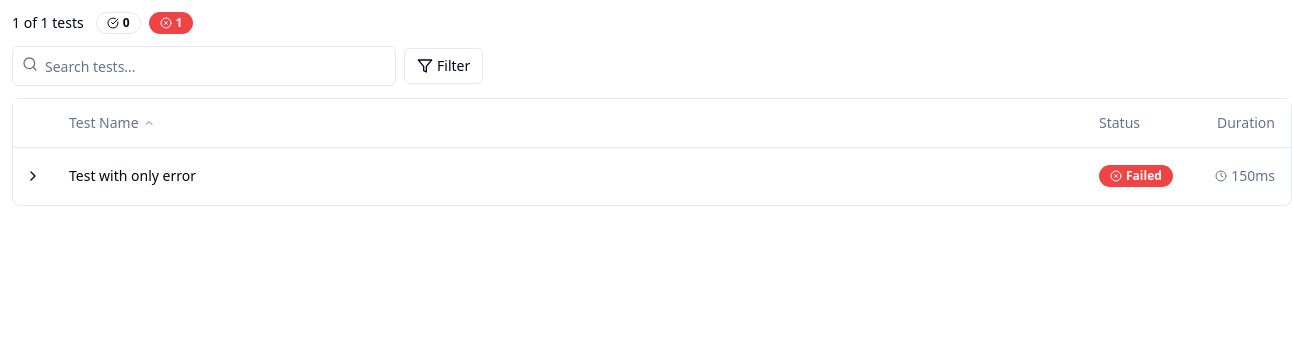
it: TestResultsTable › Expanded Row Content › only shows relevant tabs based on available data
The width and height of the screenshot is (1292, 348).
Click the text "Test with only error".
click(133, 176)  # box [13,147,1291,204]
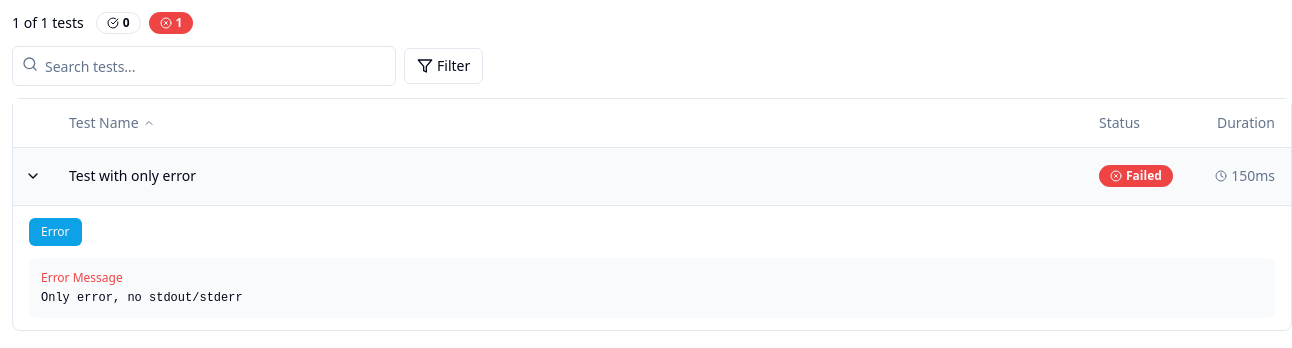
Now the button "Error" is shown, box [29,218,82,246]
